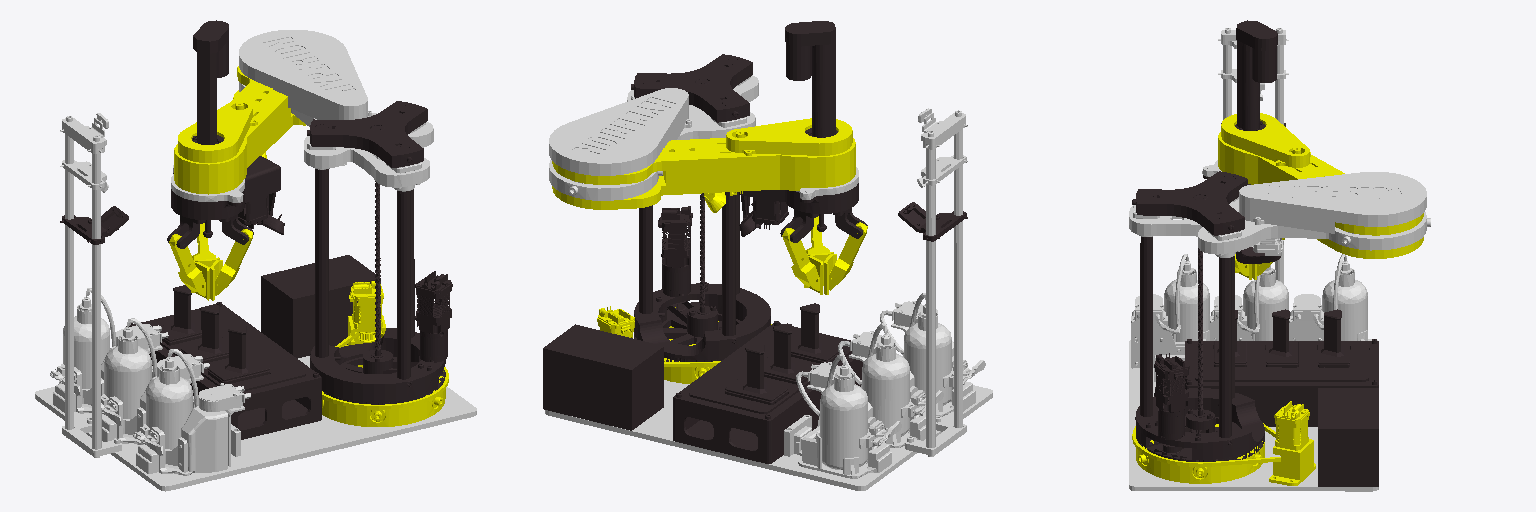
--- Render facts (derived) ---
The picture shows the robot from 3 angles, left to right: view 1: azimuth 30°, elevation 25°; view 2: azimuth 150°, elevation 25°; view 3: azimuth 270°, elevation 25°; orthographic projection.
Robot: sysmap — 19 links, 18 joints (6 revolute, 6 prismatic, 6 fixed); root link world; default pose: all joints at 0.
Visible links, largest first — view 1: colonne, electrique, interne, stockage_liquide, externe, aileron, platine, batterie, stockage_liquide2, pince_base, base, stockage_liquide3 (+5 smaller); view 2: colonne, electrique, externe, interne, batterie, stockage_liquide3, aileron, stockage_liquide2, platine, poignet, stockage_liquide, pince_base (+5 smaller); view 3: colonne, interne, electrique, externe, batterie, base, stockage_liquide, platine, stockage_liquide3, poignet, stockage_liquide2, aileron.
Boxes of the visible links, <box> form: colonne: <box>307,101,452,404</box>; electrique: <box>126,285,321,439</box>; interne: <box>239,30,433,191</box>; stockage_liquide: <box>133,349,250,475</box>; externe: <box>174,66,305,194</box>; aileron: <box>60,113,121,457</box>; platine: <box>35,356,476,491</box>; batterie: <box>261,255,380,358</box>; stockage_liquide2: <box>91,318,209,444</box>; pince_base: <box>167,156,284,248</box>; base: <box>322,281,448,426</box>; stockage_liquide3: <box>50,288,168,413</box>; colonne: <box>631,54,770,361</box>; electrique: <box>673,303,862,463</box>; externe: <box>552,118,855,212</box>; interne: <box>549,75,758,200</box>; batterie: <box>543,324,663,430</box>; stockage_liquide3: <box>784,354,901,478</box>; aileron: <box>905,108,967,456</box>; stockage_liquide2: <box>838,323,943,447</box>; platine: <box>545,380,992,490</box>; poignet: <box>785,21,837,137</box>; stockage_liquide: <box>880,293,985,416</box>; pince_base: <box>739,183,867,242</box>; colonne: <box>1132,171,1264,461</box>; interne: <box>1129,172,1430,257</box>; electrique: <box>1185,309,1378,426</box>; externe: <box>1218,113,1423,258</box>; batterie: <box>1318,388,1378,486</box>; base: <box>1132,401,1315,485</box>; stockage_liquide: <box>1131,254,1209,381</box>; platine: <box>1129,339,1378,491</box>; stockage_liquide3: <box>1289,254,1367,340</box>; poignet: <box>1235,20,1277,130</box>; stockage_liquide2: <box>1210,265,1288,340</box>; aileron: <box>1218,28,1288,283</box>.
Bounding box of the posed robot: 0.5805 × 0.4659 × 0.6292 m (x, y, z).
Meshes: 14 distinct files referenced, 18 mesh visuals loaded (14 binary STL).

robot.urdf — sysmap:
<?xml version="1.0" encoding="UTF-8" ?>
<robot name="sysmap">
    <material name="black">
        <color rgba="0.24 0.2 0.21 1" />
    </material>
    <material name="white">
        <color rgba="0.9 0.9 0.9 1" />
    </material>
    <material name="whiteT">
        <color rgba="0.9 0.9 0.9 0.9" />
    </material>
    <material name="yellow">
        <color rgba="1 1 0 1" />
    </material>
    <link name="world" />
    <link name="platine">
        <visual>
            <origin rpy="1.57 0.0 0.0" />
            <material name="white" />
            <geometry>
                <mesh filename="package://klampt/meshes/1_Platine_optimized.stl" />
            </geometry>
        </visual>
        <collision>
            <origin rpy="1.57 0.0 0.0" />
            <material name="white" />
            <geometry>
                <mesh filename="package://klampt/meshes/1_Platine_convexHull.stl" />
            </geometry>
        </collision>
        <inertial>
            <mass value="0.1" />
            <origin xyz="0 0 0" rpy="0 0 0" />
            <inertia ixx="0.03" iyy="0.03" izz="0.03" ixy="0.0" ixz="0.0" iyz="0.0" />
        </inertial>
    </link>
    <link name="aileron">
        <visual>
            <origin rpy="1.57 0.0 0.0" />
            <material name="white" />
            <geometry>
                <mesh filename="package://klampt/meshes/2_SupportAileron_optimized.stl" />
            </geometry>
        </visual>
        <collision>
            <origin rpy="1.57 0.0 0.0" />
            <material name="white" />
            <geometry>
                <mesh filename="package://klampt/meshes/2_SupportAileron_convexHull.stl" />
            </geometry>
        </collision>
        <inertial>
            <mass value="0.1" />
            <origin xyz="0 0 0" rpy="0 0 0" />
            <inertia ixx="0.03" iyy="0.03" izz="0.03" ixy="0.0" ixz="0.0" iyz="0.0" />
        </inertial>
    </link>
    <link name="aileron_camera">
        <visual>
            <origin rpy="1.57 0.0 0.0" />
            <material name="black" />
            <geometry>
                <mesh filename="package://klampt/meshes/2_SupportAileron_camera_optimized.stl" />
            </geometry>
        </visual>
        <collision>
            <origin rpy="1.57 0.0 0.0" />
            <material name="black" />
            <geometry>
                <mesh filename="package://klampt/meshes/2_SupportAileron_camera_convexHull.stl" />
            </geometry>
        </collision>
        <inertial>
            <mass value="0.1" />
            <origin xyz="0 0 0" rpy="0 0 0" />
            <inertia ixx="0.03" iyy="0.03" izz="0.03" ixy="0.0" ixz="0.0" iyz="0.0" />
        </inertial>
    </link>
    <link name="stockage_liquide">
        <visual>
            <origin rpy="1.57 0.0 -3.6652" />
            <material name="whiteT" />
            <geometry>
                <mesh filename="package://klampt/meshes/3_ZoneStockage_liquide_optimized.stl" />
            </geometry>
        </visual>
        <collision>
            <origin rpy="1.57 0.0 -3.6652" />
            <material name="whiteT" />
            <geometry>
                <mesh filename="package://klampt/meshes/3_ZoneStockage_liquide_convexHull.stl" />
            </geometry>
        </collision>
        <inertial>
            <mass value="0.1" />
            <origin xyz="0 0 0" rpy="0 0 0" />
            <inertia ixx="0.03" iyy="0.03" izz="0.03" ixy="0.0" ixz="0.0" iyz="0.0" />
        </inertial>
    </link>
    <link name="stockage_liquide2">
        <visual>
            <origin rpy="1.57 0.0 -3.6652" />
            <material name="whiteT" />
            <geometry>
                <mesh filename="package://klampt/meshes/3_ZoneStockage_liquide_optimized.stl" />
            </geometry>
        </visual>
        <collision>
            <origin rpy="1.57 0.0 -3.6652" />
            <material name="whiteT" />
            <geometry>
                <mesh filename="package://klampt/meshes/3_ZoneStockage_liquide_convexHull.stl" />
            </geometry>
        </collision>
        <inertial>
            <mass value="0.1" />
            <origin xyz="0 0 0" rpy="0 0 0" />
            <inertia ixx="0.03" iyy="0.03" izz="0.03" ixy="0.0" ixz="0.0" iyz="0.0" />
        </inertial>
    </link>
    <link name="stockage_liquide3">
        <visual>
            <origin rpy="1.57 0.0 -3.6652" />
            <material name="whiteT" />
            <geometry>
                <mesh filename="package://klampt/meshes/3_ZoneStockage_liquide_optimized.stl" />
            </geometry>
        </visual>
        <collision>
            <origin rpy="1.57 0.0 -3.6652" />
            <material name="whiteT" />
            <geometry>
                <mesh filename="package://klampt/meshes/3_ZoneStockage_liquide_convexHull.stl" />
            </geometry>
        </collision>
        <inertial>
            <mass value="0.1" />
            <origin xyz="0 0 0" rpy="0 0 0" />
            <inertia ixx="0.03" iyy="0.03" izz="0.03" ixy="0.0" ixz="0.0" iyz="0.0" />
        </inertial>
    </link>
    <link name="electrique">
        <visual>
            <origin rpy="1.57 0.0 0.0" />
            <material name="black" />
            <geometry>
                <mesh filename="package://klampt/meshes/5_ZoneElec_optimized.stl" />
            </geometry>
        </visual>
        <collision>
            <origin rpy="1.57 0.0 0.0" />
            <material name="black" />
            <geometry>
                <mesh filename="package://klampt/meshes/5_ZoneElec_convexHull.stl" />
            </geometry>
        </collision>
        <inertial>
            <mass value="0.1" />
            <origin xyz="0 0 0" rpy="0 0 0" />
            <inertia ixx="0.03" iyy="0.03" izz="0.03" ixy="0.0" ixz="0.0" iyz="0.0" />
        </inertial>
    </link>
    <link name="batterie">
        <visual>
            <origin rpy="1.57 0.0 0.0" />
            <material name="black" />
            <geometry>
                <mesh filename="package://klampt/meshes/6_ZoneBatterie.stl" />
            </geometry>
        </visual>
        <collision>
            <origin rpy="1.57 0.0 0.0" />
            <material name="black" />
            <geometry>
                <mesh filename="package://klampt/meshes/6_ZoneBatterie.stl" />
            </geometry>
        </collision>
        <inertial>
            <mass value="0.1" />
            <origin xyz="0 0 0" rpy="0 0 0" />
            <inertia ixx="0.03" iyy="0.03" izz="0.03" ixy="0.0" ixz="0.0" iyz="0.0" />
        </inertial>
    </link>
    <link name="base">
        <visual>
            <origin rpy="1.57 0.0 0.0" />
            <material name="yellow" />
            <geometry>
                <mesh filename="package://klampt/meshes/7_1_scara_base_optimized.stl" />
            </geometry>
        </visual>
        <collision>
            <origin rpy="1.57 0.0 0.0" />
            <material name="yellow" />
            <geometry>
                <mesh filename="package://klampt/meshes/7_1_scara_base_convexHull.stl" />
            </geometry>
        </collision>
        <inertial>
            <mass value="0.1" />
            <origin xyz="0 0 0" rpy="0 0 0" />
            <inertia ixx="0.03" iyy="0.03" izz="0.03" ixy="0.0" ixz="0.0" iyz="0.0" />
        </inertial>
    </link>
    <link name="colonne">
        <visual>
            <origin rpy="1.57 0.0 0.0" />
            <material name="black" />
            <geometry>
                <mesh filename="package://klampt/meshes/7_2_scara_colonne_optimized.stl" />
            </geometry>
        </visual>
        <collision>
            <origin rpy="1.57 0.0 0.0" />
            <material name="black" />
            <geometry>
                <mesh filename="package://klampt/meshes/7_2_scara_colonne_convexHull.stl" />
            </geometry>
        </collision>
        <inertial>
            <mass value="0.1" />
            <origin xyz="0 0 0" rpy="0 0 0" />
            <inertia ixx="0.03" iyy="0.03" izz="0.03" ixy="0.0" ixz="0.0" iyz="0.0" />
        </inertial>
    </link>
    <link name="interne">
        <visual>
            <origin rpy="1.57 0.0 0.0" />
            <material name="white" />
            <geometry>
                <mesh filename="package://klampt/meshes/7_3_scara_interne_optimized.stl" />
            </geometry>
        </visual>
        <collision>
            <origin rpy="1.57 0.0 0.0" />
            <material name="white" />
            <geometry>
                <mesh filename="package://klampt/meshes/7_3_scara_interne_convexHull.stl" />
            </geometry>
        </collision>
        <inertial>
            <mass value="0.1" />
            <origin xyz="0 0 0" rpy="0 0 0" />
            <inertia ixx="0.03" iyy="0.03" izz="0.03" ixy="0.0" ixz="0.0" iyz="0.0" />
        </inertial>
    </link>
    <link name="externe">
        <visual>
            <origin rpy="1.57 0.0 0.0" />
            <material name="yellow" />
            <geometry>
                <mesh filename="package://klampt/meshes/7_4_scara_externe_optimized.stl" />
            </geometry>
        </visual>
        <collision>
            <origin rpy="1.57 0.0 0.0" />
            <material name="yellow" />
            <geometry>
                <mesh filename="package://klampt/meshes/7_4_scara_externe_convexHull.stl" />
            </geometry>
        </collision>
        <inertial>
            <mass value="0.1" />
            <origin xyz="0 0 0" rpy="0 0 0" />
            <inertia ixx="0.03" iyy="0.03" izz="0.03" ixy="0.0" ixz="0.0" iyz="0.0" />
        </inertial>
    </link>
    <link name="poignet">
        <visual>
            <origin rpy="1.57 0.0 0.0" />
            <material name="black" />
            <geometry>
                <mesh filename="package://klampt/meshes/7_5_scara_poignet_optimized.stl" />
            </geometry>
        </visual>
        <collision>
            <origin rpy="1.57 0.0 0.0" />
            <material name="black" />
            <geometry>
                <mesh filename="package://klampt/meshes/7_5_scara_poignet_convexHull.stl" />
            </geometry>
        </collision>
        <inertial>
            <mass value="0.1" />
            <origin xyz="0 0 0" rpy="0 0 0" />
            <inertia ixx="0.03" iyy="0.03" izz="0.03" ixy="0.0" ixz="0.0" iyz="0.0" />
        </inertial>
    </link>
    <link name="verin">
        <visual>
            <origin rpy="1.57 0.0 0.0" />
            <material name="white" />
            <geometry>
                <mesh filename="package://klampt/meshes/7_6_scara_verin_optimized.stl" />
            </geometry>
        </visual>
        <collision>
            <origin rpy="1.57 0.0 0.0" />
            <material name="white" />
            <geometry>
                <mesh filename="package://klampt/meshes/7_6_scara_verin_convexHull.stl" />
            </geometry>
        </collision>
        <inertial>
            <mass value="0.1" />
            <origin xyz="0 0 0" rpy="0 0 0" />
            <inertia ixx="0.03" iyy="0.03" izz="0.03" ixy="0.0" ixz="0.0" iyz="0.0" />
        </inertial>
    </link>
    <link name="pince_base">
        <visual>
            <origin rpy="1.57 0.0 0.0" />
            <material name="black" />
            <geometry>
                <mesh filename="package://klampt/meshes/7_7_scara_pince_base_optimized.stl" />
            </geometry>
        </visual>
        <collision>
            <origin rpy="1.57 0.0 0.0" />
            <material name="black" />
            <geometry>
                <mesh filename="package://klampt/meshes/7_7_scara_pince_base_convexHull.stl" />
            </geometry>
        </collision>
        <inertial>
            <mass value="0.1" />
            <origin xyz="0 0 0" rpy="0 0 0" />
            <inertia ixx="0.03" iyy="0.03" izz="0.03" ixy="0.0" ixz="0.0" iyz="0.0" />
        </inertial>
    </link>
    <link name="doigt1">
        <visual>
            <origin xyz="0.0 0.0 0.0" rpy="1.57 -2.094 0.0" />
            <material name="yellow" />
            <geometry>
                <mesh filename="package://klampt/meshes/7_7_scara_pince_doigt_optimized.stl" />
            </geometry>
        </visual>
        <collision>
            <origin xyz="0.0 0.0 0.0" rpy="1.57 -2.094 0.0" />
            <material name="yellow" />
            <geometry>
                <mesh filename="package://klampt/meshes/7_7_scara_pince_doigt_convexHull.stl" />
            </geometry>
        </collision>
        <inertial>
            <mass value="0.1" />
            <origin xyz="0 0 0" rpy="0 0 0" />
            <inertia ixx="0.03" iyy="0.03" izz="0.03" ixy="0.0" ixz="0.0" iyz="0.0" />
        </inertial>
    </link>
    <link name="doigt2">
        <visual>
            <origin xyz="0.0 0.0 0.0" rpy="1.57 -2.094 0.0" />
            <material name="yellow" />
            <geometry>
                <mesh filename="package://klampt/meshes/7_7_scara_pince_doigt_optimized.stl" />
            </geometry>
        </visual>
        <collision>
            <origin xyz="0.0 0.0 0.0" rpy="1.57 -2.094 0.0" />
            <material name="yellow" />
            <geometry>
                <mesh filename="package://klampt/meshes/7_7_scara_pince_doigt_convexHull.stl" />
            </geometry>
        </collision>
        <inertial>
            <mass value="0.1" />
            <origin xyz="0 0 0" rpy="0 0 0" />
            <inertia ixx="0.03" iyy="0.03" izz="0.03" ixy="0.0" ixz="0.0" iyz="0.0" />
        </inertial>
    </link>
    <link name="doigt3">
        <visual>
            <origin xyz="0.0 0.0 0.0" rpy="1.57 -2.094 0.0" />
            <material name="yellow" />
            <geometry>
                <mesh filename="package://klampt/meshes/7_7_scara_pince_doigt_optimized.stl" />
            </geometry>
        </visual>
        <collision>
            <origin xyz="0.0 0.0 0.0" rpy="1.57 -2.094 0.0" />
            <material name="yellow" />
            <geometry>
                <mesh filename="package://klampt/meshes/7_7_scara_pince_doigt_convexHull.stl" />
            </geometry>
        </collision>
        <inertial>
            <mass value="0.1" />
            <origin xyz="0 0 0" rpy="0 0 0" />
            <inertia ixx="0.03" iyy="0.03" izz="0.03" ixy="0.0" ixz="0.0" iyz="0.0" />
        </inertial>
    </link>
    <joint name="world_platine" type="fixed">
        <origin xyz="0.0 0.0 0.0" rpy="0.0 0.0 0.0" />
        <parent link="world" />
        <child link="platine" />
    </joint>
    <joint name="platine_aileron" type="fixed">
        <origin xyz="-0.42 0.042 0.0" rpy="0.0 0.0 0.0" />
        <parent link="platine" />
        <child link="aileron" />
    </joint>
    <joint name="platine_stockageLiquide" type="prismatic">
        <origin xyz="-0.2789 -0.06397 0.0" rpy="0.0 0.0 0.0" />
        <parent link="platine" />
        <child link="stockage_liquide" />
        <axis xyz="0.0 0.0 1.0" />
        <limit lower="0" upper="0" effort="0.0" velocity="0.01" />
    </joint>
    <joint name="platine_stockageLiquide2" type="prismatic">
        <origin xyz="-0.2789 0.05803 0.0" rpy="0.0 0.0 0.0" />
        <parent link="platine" />
        <child link="stockage_liquide2" />
        <axis xyz="0.0 0.0 1.0" />
        <limit lower="0" upper="0" effort="0.0" velocity="0.01" />
    </joint>
    <joint name="platine_stockageLiquide3" type="prismatic">
        <origin xyz="-0.2789 0.18003 0.0" rpy="0.0 0.0 0.0" />
        <parent link="platine" />
        <child link="stockage_liquide3" />
        <axis xyz="0.0 0.0 1.0" />
        <limit lower="0" upper="0" effort="0.0" velocity="0.01" />
    </joint>
    <joint name="platine_electrique" type="fixed">
        <origin xyz="-0.1179 -0.004 0.0" rpy="0.0 0.0 0.0" />
        <parent link="platine" />
        <child link="electrique" />
    </joint>
    <joint name="platine_batterie" type="fixed">
        <origin xyz="0.110 0.276 0.0" rpy="0.0 0.0 0.0" />
        <parent link="platine" />
        <child link="batterie" />
    </joint>
    <joint name="platine_base" type="fixed">
        <origin xyz="0.0 0.0 0.0" rpy="0.0 0.0 0.0" />
        <parent link="platine" />
        <child link="base" />
    </joint>
    <joint name="base_colonne" type="revolute">
        <origin xyz="0.0 0.0 0.03" rpy="0.0 0.0 -5.4044" />
        <parent link="base" />
        <child link="colonne" />
        <axis xyz="0.0 0.0 1.0" />
        <limit lower="0" upper="6.13" effort="0.0" velocity="0.6" />
    </joint>
    <joint name="colonne_interne" type="prismatic">
        <origin xyz="0.0 0.0 0.391" rpy="0.0 0.0 0.0" />
        <parent link="colonne" />
        <child link="interne" />
        <axis xyz="0.0 0.0 1.0" />
        <limit lower="-0.2789" upper="0" effort="0.0" velocity="0.015" />
    </joint>
    <joint name="interne_externe" type="revolute">
        <origin xyz="0.214559 0.163904 -0.005" rpy="0.0 0.0 2.48" />
        <parent link="interne" />
        <child link="externe" />
        <axis xyz="0.0 0.0 -1.0" />
        <limit lower="0.0" upper="4.54" effort="0.0" velocity="0.6" />
    </joint>
    <joint name="externe_poignet" type="revolute">
        <origin xyz="0.29117 0.13275 0.030" rpy="0.0 0.0 2.36" />
        <parent link="externe" />
        <child link="poignet" />
        <axis xyz="0.0 0.0 -1.0" />
        <limit lower="0" upper="6.35" effort="0.0" velocity="0.6" />
    </joint>
    <joint name="poignet_verin" type="prismatic">
        <origin xyz="0.0 0.0 -0.049" rpy="0.0 0.0 0.0" />
        <parent link="poignet" />
        <child link="verin" />
        <axis xyz="0.0 0.0 1.0" />
        <limit lower="-0.15" upper="0.0" effort="0.0" velocity="0.013" />
    </joint>
    <joint name="verin_pince" type="fixed">
        <origin xyz="0.0 0.0 -0.025" rpy="-1.57 0.0 0.74" />
        <parent link="verin" />
        <child link="pince_base" />
    </joint>
    <joint name="pince_doigt1" type="revolute">
        <origin xyz="0.02405 0.07176 0.05466" rpy="0.0 2.094 0.0" />
        <parent link="pince_base" />
        <child link="doigt1" />
        <axis xyz="0.0 0.0 1.0" />
        <limit lower="0" upper="0.8346" effort="0.0" velocity="0.6" />
    </joint>
    <joint name="pince_doigt2" type="revolute">
        <origin xyz="-0.05936 0.07176 -0.0065" rpy="0.0 0.0 0.0" />
        <parent link="pince_base" />
        <child link="doigt2" />
        <axis xyz="0.0 0.0 1.0" />
        <limit lower="0" upper="0.8346" effort="0.0" velocity="0.6" />
        <mimic joint="pince_doigt1" multiplier="1" offset="0" />
    </joint>
    <joint name="pince_doigt3" type="revolute">
        <origin xyz="0.03531 0.07176 -0.04816" rpy="0.0 -2.094 0.0" />
        <parent link="pince_base" />
        <child link="doigt3" />
        <axis xyz="0.0 0.0 1.0" />
        <limit lower="0" upper="0.8346" effort="0.0" velocity="0.6" />
        <mimic joint="pince_doigt1" multiplier="1" offset="0" />
    </joint>
    <joint name="platine_aileron_camera" type="prismatic">
        <origin xyz="-0.42 0.042 -0.05" rpy="0.0 0.0 0.0" />
        <parent link="platine" />
        <child link="aileron_camera" />
        <axis xyz="0.0 0.0 1.0" />
        <limit lower="-0.05" upper="0.08" effort="0.0" velocity="0.0" />
    </joint>
    <!-- <klampt package_root="../../" flip_yz="0" use_vis_geom="1"  freeze_root_link="0" > -->
    <transmission name="trans_platine_stockageLiquide">
        <type>transmission_interface/SimpleTransmission</type>
        <joint name="platine_stockageLiquide">
            <hardwareInterface>hardware_interface/EffortJointInterface</hardwareInterface>
        </joint>
        <actuator name="platine_stockageLiquide_motor">
            <hardwareInterface>hardware_interface/EffortJointInterface</hardwareInterface>
            <mechanicalReduction>1</mechanicalReduction>
        </actuator>
    </transmission>
    <transmission name="trans_platine_stockageLiquide2">
        <type>transmission_interface/SimpleTransmission</type>
        <joint name="platine_stockageLiquide2">
            <hardwareInterface>hardware_interface/EffortJointInterface</hardwareInterface>
        </joint>
        <actuator name="platine_stockageLiquide2_motor">
            <hardwareInterface>hardware_interface/EffortJointInterface</hardwareInterface>
            <mechanicalReduction>1</mechanicalReduction>
        </actuator>
    </transmission>
    <transmission name="trans_platine_stockageLiquide3">
        <type>transmission_interface/SimpleTransmission</type>
        <joint name="platine_stockageLiquide3">
            <hardwareInterface>hardware_interface/EffortJointInterface</hardwareInterface>
        </joint>
        <actuator name="platine_stockageLiquide3_motor">
            <hardwareInterface>hardware_interface/EffortJointInterface</hardwareInterface>
            <mechanicalReduction>1</mechanicalReduction>
        </actuator>
    </transmission>
    <transmission name="trans_base_colonne">
        <type>transmission_interface/SimpleTransmission</type>
        <joint name="base_colonne">
            <hardwareInterface>hardware_interface/EffortJointInterface</hardwareInterface>
        </joint>
        <actuator name="base_colonne_motor">
            <hardwareInterface>hardware_interface/EffortJointInterface</hardwareInterface>
            <mechanicalReduction>1</mechanicalReduction>
        </actuator>
    </transmission>
    <transmission name="trans_colonne_interne">
        <type>transmission_interface/SimpleTransmission</type>
        <joint name="colonne_interne">
            <hardwareInterface>hardware_interface/EffortJointInterface</hardwareInterface>
        </joint>
        <actuator name="colonne_interne_motor">
            <hardwareInterface>hardware_interface/EffortJointInterface</hardwareInterface>
            <mechanicalReduction>1</mechanicalReduction>
        </actuator>
    </transmission>
    <transmission name="trans_interne_externe">
        <type>transmission_interface/SimpleTransmission</type>
        <joint name="interne_externe">
            <hardwareInterface>hardware_interface/EffortJointInterface</hardwareInterface>
        </joint>
        <actuator name="interne_externe_motor">
            <hardwareInterface>hardware_interface/EffortJointInterface</hardwareInterface>
            <mechanicalReduction>1</mechanicalReduction>
        </actuator>
    </transmission>
    <transmission name="trans_externe_poignet">
        <type>transmission_interface/SimpleTransmission</type>
        <joint name="externe_poignet">
            <hardwareInterface>hardware_interface/EffortJointInterface</hardwareInterface>
        </joint>
        <actuator name="externe_poignet_motor">
            <hardwareInterface>hardware_interface/EffortJointInterface</hardwareInterface>
            <mechanicalReduction>1</mechanicalReduction>
        </actuator>
    </transmission>
    <transmission name="trans_poignet_verin">
        <type>transmission_interface/SimpleTransmission</type>
        <joint name="poignet_verin">
            <hardwareInterface>hardware_interface/EffortJointInterface</hardwareInterface>
        </joint>
        <actuator name="poignet_verin_motor">
            <hardwareInterface>hardware_interface/EffortJointInterface</hardwareInterface>
            <mechanicalReduction>1</mechanicalReduction>
        </actuator>
    </transmission>
    <transmission name="trans_pince_doigt1">
        <type>transmission_interface/SimpleTransmission</type>
        <joint name="pince_doigt1">
            <hardwareInterface>hardware_interface/EffortJointInterface</hardwareInterface>
        </joint>
        <actuator name="pince_doigt1_motor">
            <hardwareInterface>hardware_interface/EffortJointInterface</hardwareInterface>
            <mechanicalReduction>1</mechanicalReduction>
        </actuator>
    </transmission>
    <transmission name="trans_pince_doigt2">
        <type>transmission_interface/SimpleTransmission</type>
        <joint name="pince_doigt2">
            <hardwareInterface>hardware_interface/EffortJointInterface</hardwareInterface>
        </joint>
        <actuator name="pince_doigt2_motor">
            <hardwareInterface>hardware_interface/EffortJointInterface</hardwareInterface>
            <mechanicalReduction>1</mechanicalReduction>
        </actuator>
    </transmission>
    <transmission name="trans_pince_doigt3">
        <type>transmission_interface/SimpleTransmission</type>
        <joint name="pince_doigt3">
            <hardwareInterface>hardware_interface/EffortJointInterface</hardwareInterface>
        </joint>
        <actuator name="pince_doigt3_motor">
            <hardwareInterface>hardware_interface/EffortJointInterface</hardwareInterface>
            <mechanicalReduction>1</mechanicalReduction>
        </actuator>
    </transmission>
    <transmission name="trans_platine_aileron_camera">
        <type>transmission_interface/SimpleTransmission</type>
        <joint name="platine_aileron_camera">
            <hardwareInterface>hardware_interface/EffortJointInterface</hardwareInterface>
        </joint>
        <actuator name="platine_aileron_camera_motor">
            <hardwareInterface>hardware_interface/EffortJointInterface</hardwareInterface>
            <mechanicalReduction>1</mechanicalReduction>
        </actuator>
    </transmission>
    <gazebo>
        <plugin name="gazebo_ros_control">
            <robotNamespace>/</robotNamespace>
        </plugin>
    </gazebo>
</robot>
